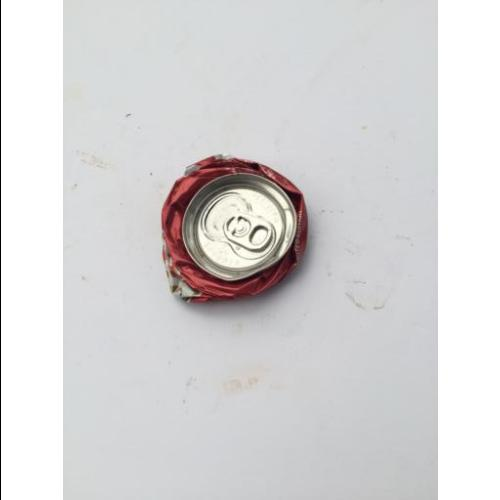metal: (160, 152, 308, 306)
